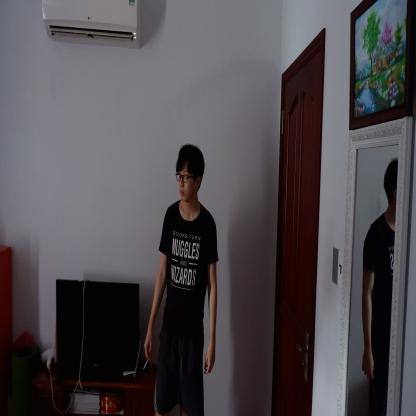cigarette: (143, 359, 148, 370)
person: (147, 142, 220, 415)
